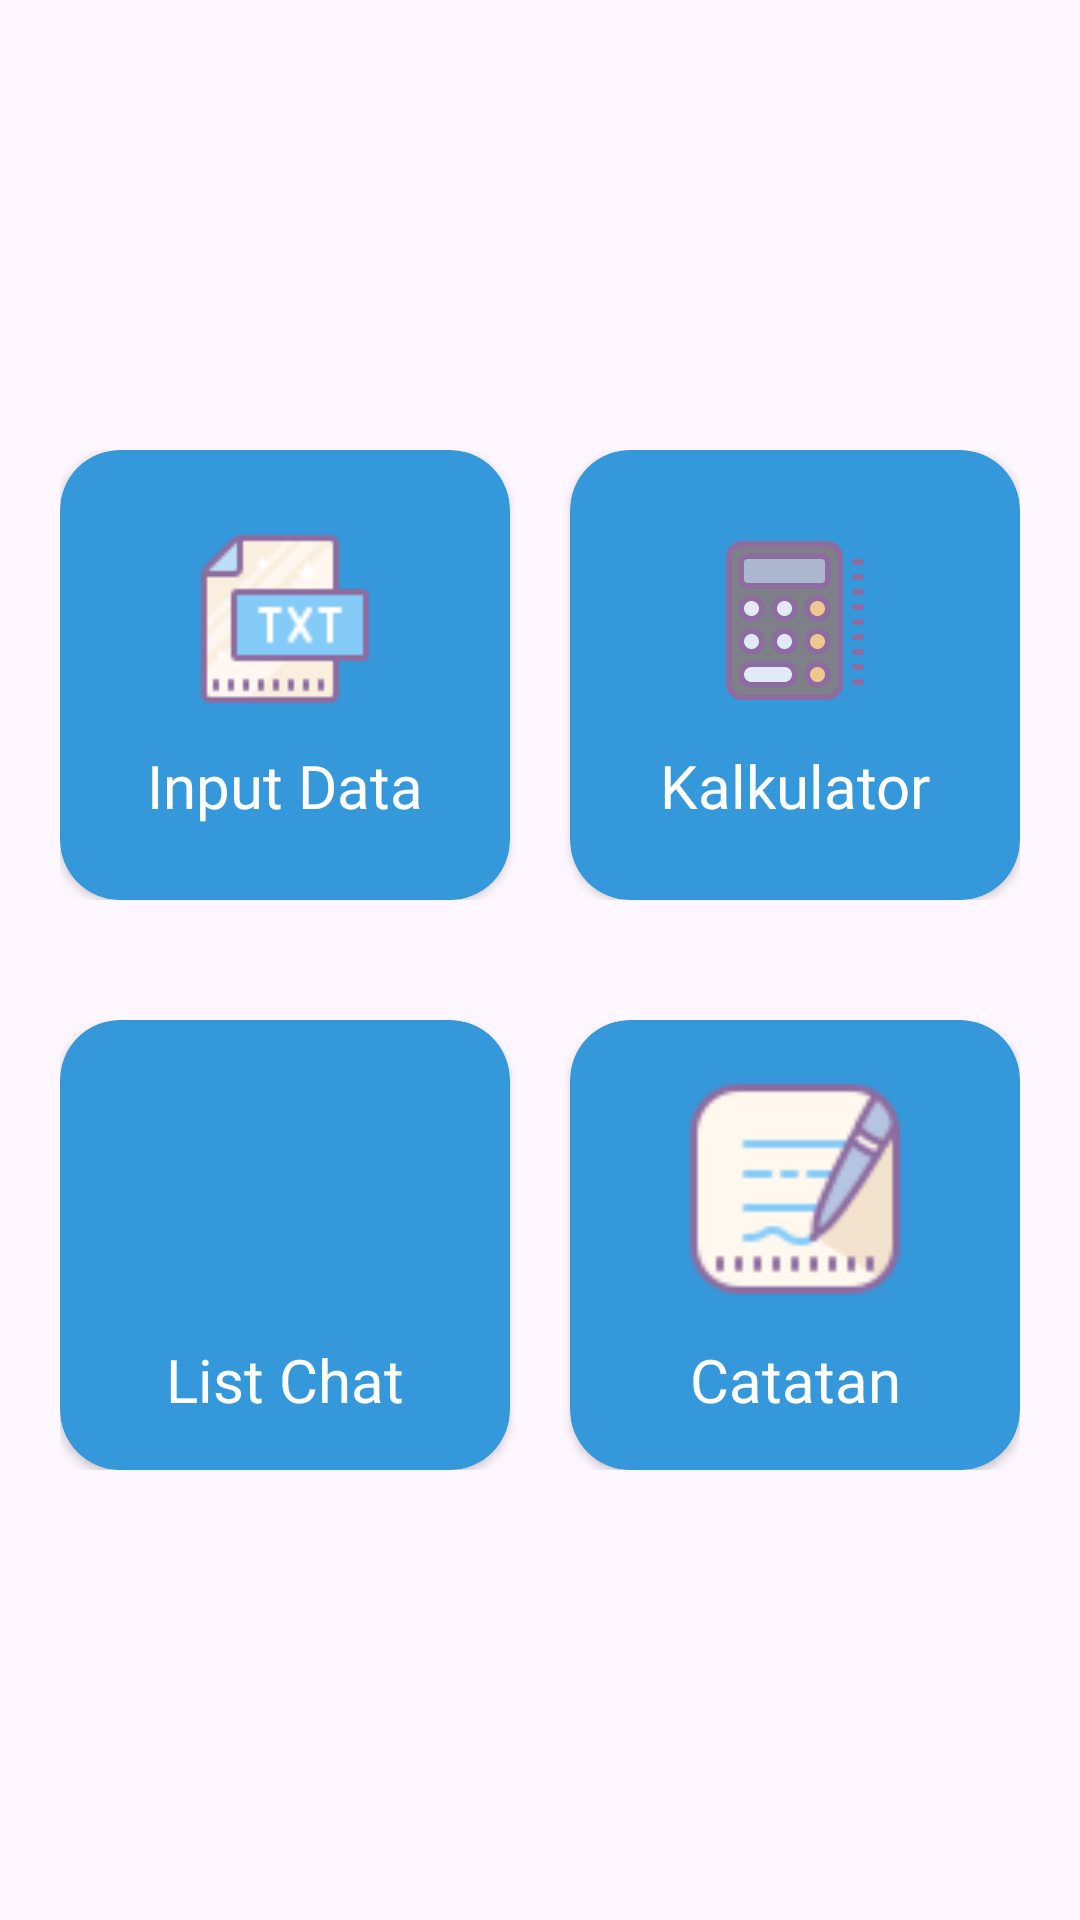

Named icons in this screenshot (1080px x 1920px) and their centers, (x,y):
calculator: (795,620)
note: (795,1189)
